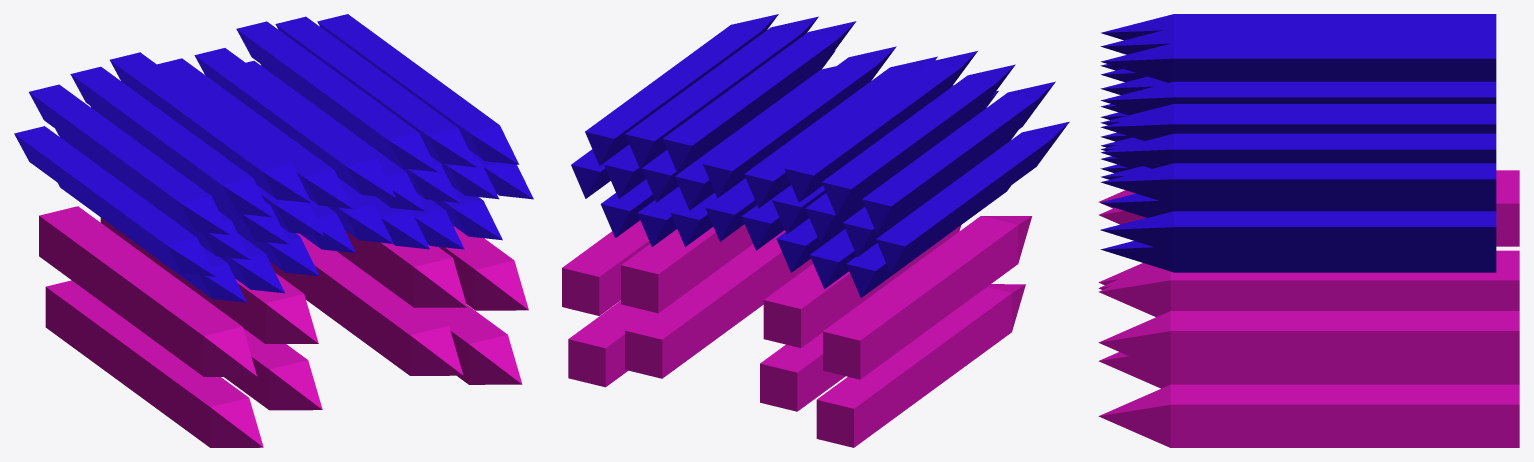
Rendered from MechanicTypeKing_ballchild.glb.
The picture shows the model from 3 angles, left to right: view 1: azimuth 30°, elevation 25°; view 2: azimuth 150°, elevation 25°; view 3: azimuth 270°, elevation 25°; orthographic projection. The views are drawn at different scales.
Visible parts, largest first — view 1: tandos; view 2: tandos; view 3: tandos.
Boxes of the visible parts, x1,y1,x2,y2 form: tandos: (14, 14, 533, 447); tandos: (562, 14, 1069, 447); tandos: (1098, 14, 1519, 447).
Bounding box in the file's own units: 3.62 × 2.61 × 3.58.
